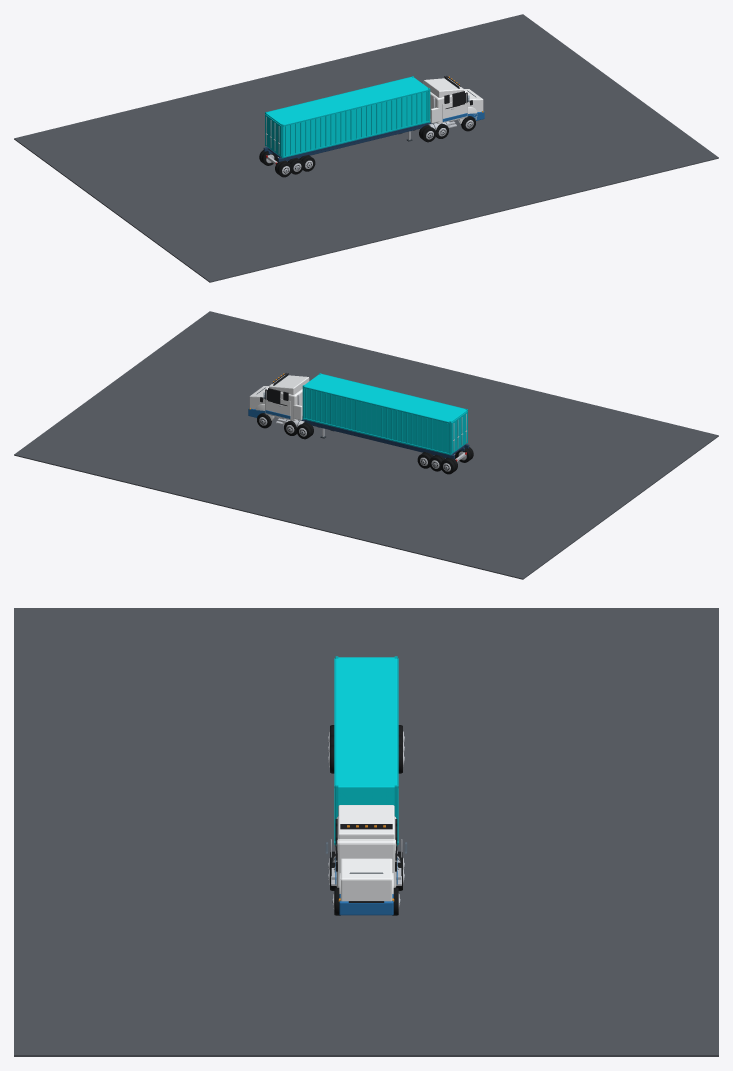
Rendered from realistic-container-truck.glb.
3 renders of one model, top to bottom at view 1: azimuth 30°, elevation 25°; view 2: azimuth 150°, elevation 25°; view 3: azimuth 270°, elevation 25°, orthographic. The views are drawn at different scales.
Parts seen in each view (by area): view 1: Preview_Ground, Container_Body, Container, Cab_Roof; view 2: Preview_Ground, Container_Body, Container, Cab_Roof; view 3: Preview_Ground, Container_Body, Cab_Nose, Cab_Roof, Cab_Main, Cab_BumperBlue.
Boxes of the visible parts, x1=… form: Preview_Ground: x1=14, y1=14, x2=718, y2=282; Container_Body: x1=266, y1=77, x2=428, y2=156; Container: x1=285, y1=91, x2=427, y2=155; Cab_Roof: x1=423, y1=78, x2=463, y2=97; Preview_Ground: x1=14, y1=311, x2=718, y2=579; Container_Body: x1=304, y1=374, x2=466, y2=453; Container: x1=305, y1=388, x2=447, y2=452; Cab_Roof: x1=269, y1=375, x2=309, y2=394; Preview_Ground: x1=14, y1=608, x2=718, y2=1056; Container_Body: x1=336, y1=657, x2=396, y2=805; Cab_Nose: x1=340, y1=858, x2=392, y2=901; Cab_Roof: x1=338, y1=805, x2=394, y2=838; Cab_Main: x1=336, y1=816, x2=396, y2=887; Cab_BumperBlue: x1=339, y1=894, x2=393, y2=915.
Bounding box in the file's own units: 42 × 4.2 × 28.
